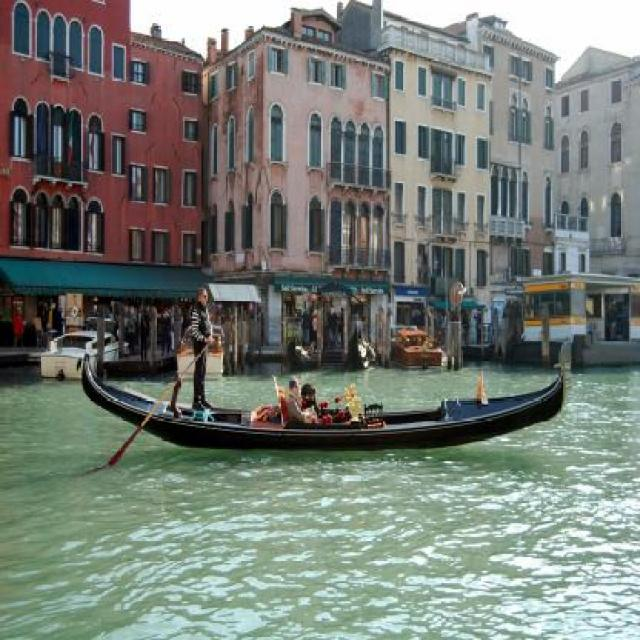ship: (81, 346, 570, 454), (39, 330, 128, 378), (176, 326, 224, 376), (388, 325, 442, 369), (287, 326, 319, 368), (349, 319, 376, 367)
